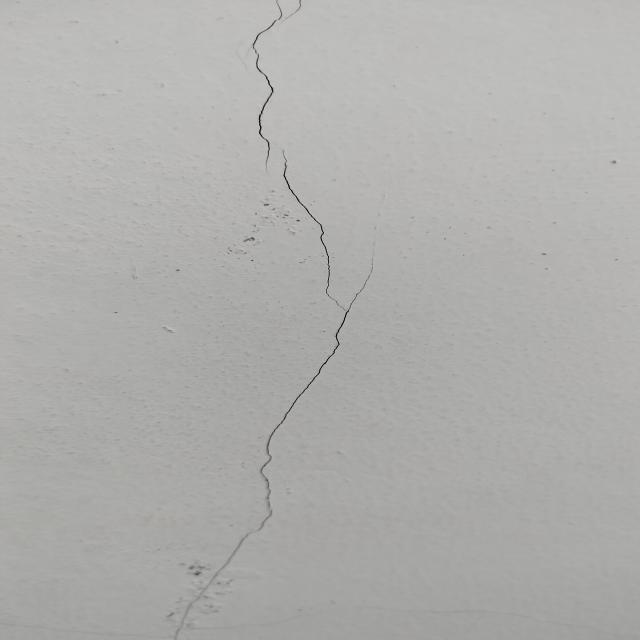Crack: (159, 1, 386, 640)
